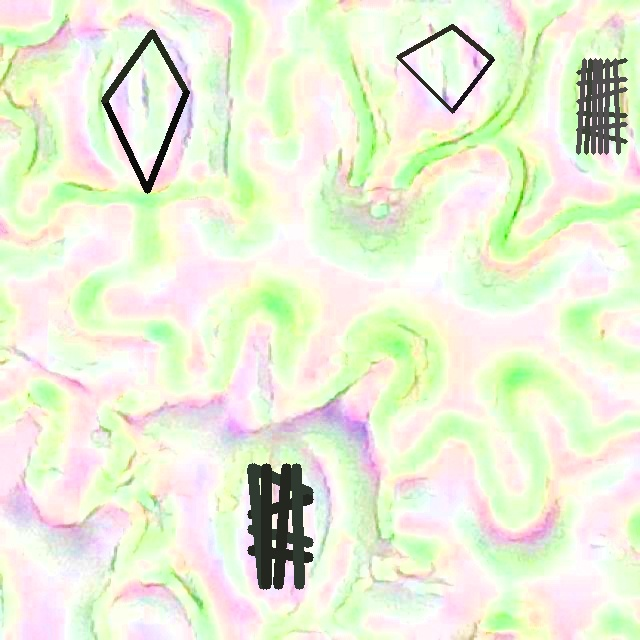open: (102, 30, 188, 192), (396, 24, 494, 113), (248, 464, 313, 589), (576, 58, 627, 154)
